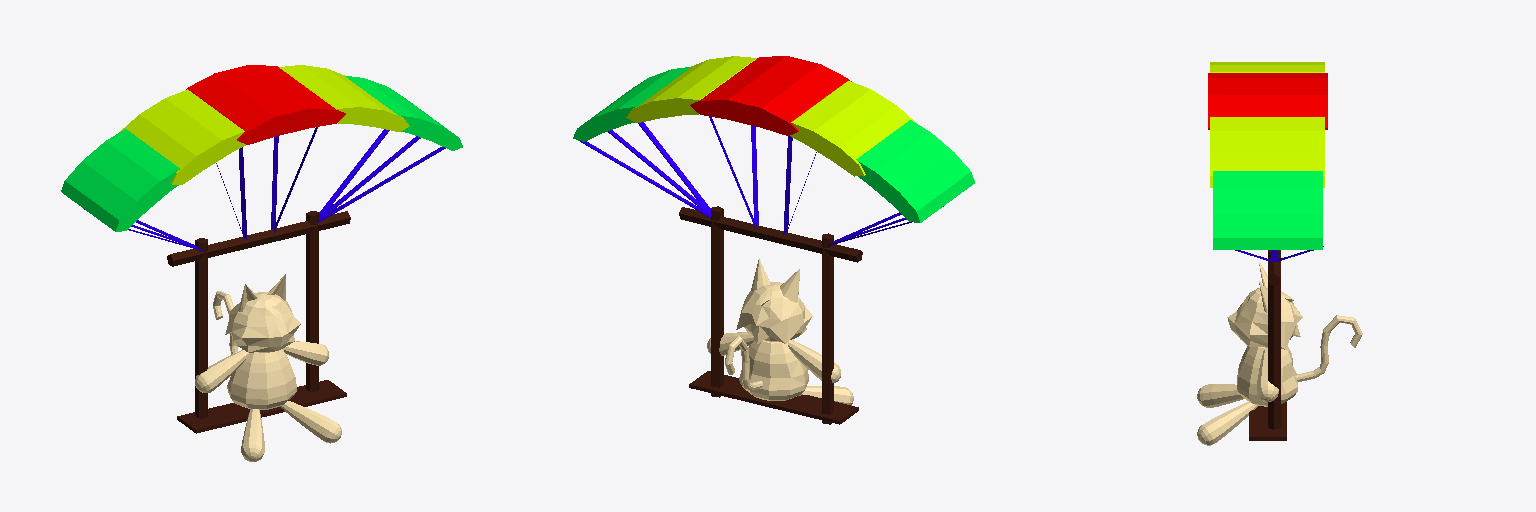
Rendered from playerCats.obj.
3 views of the same model, side by side, from view 1: azimuth 30°, elevation 25°; view 2: azimuth 150°, elevation 25°; view 3: azimuth 270°, elevation 25° (orthographic).
Visible parts, largest first — view 1: default; view 2: default; view 3: default.
Part boxes in pixels (x1,y1,x2,y2): default: (61,65,462,461); default: (573,56,974,424); default: (1197,62,1362,445).
Bounding box in the file's own units: 10.62 × 9.89 × 4.38.